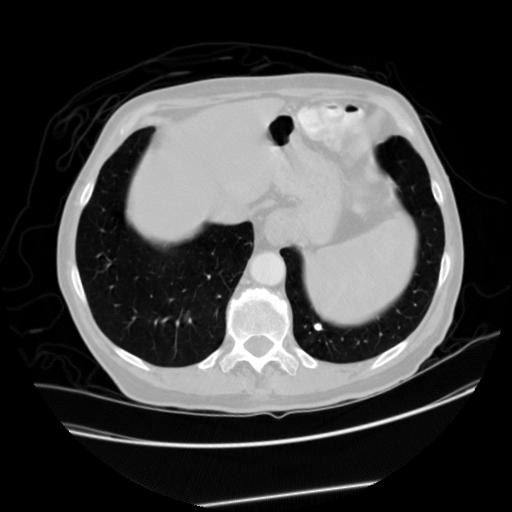nodule: (311, 320, 325, 334)
